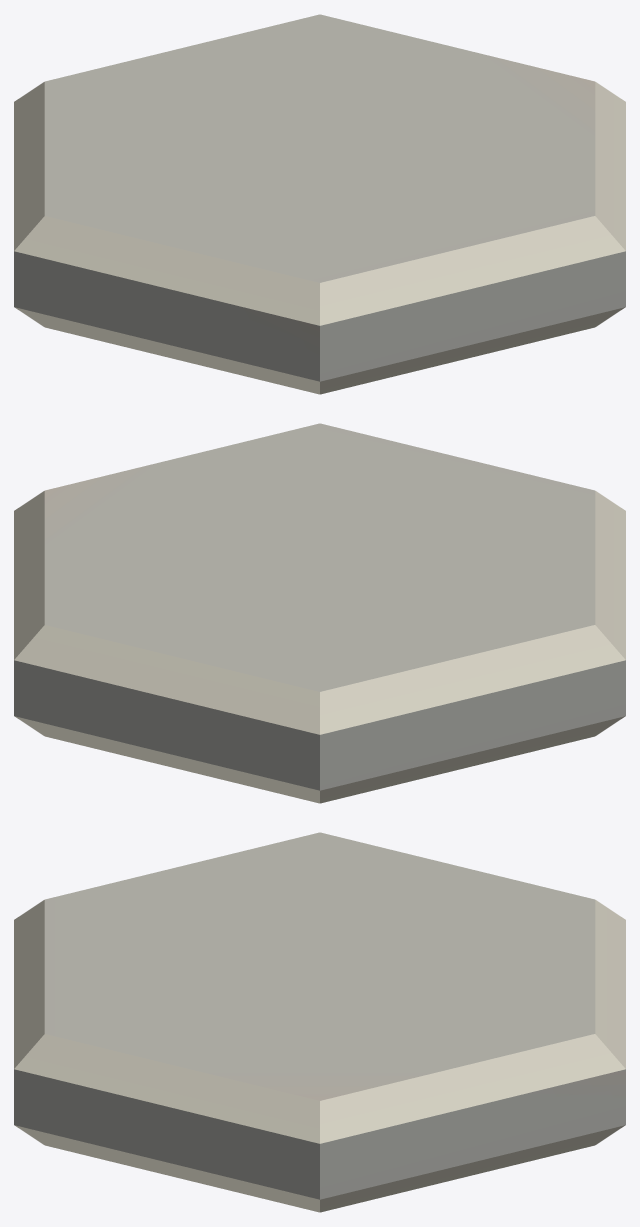
Rendered from CoinSliver_Mesh.fbx.
The picture shows the model from 3 angles, top to bottom: view 1: azimuth 30°, elevation 25°; view 2: azimuth 150°, elevation 25°; view 3: azimuth 270°, elevation 25°; orthographic projection.
Parts seen in each view (by area): view 1: CoinSliver_Mesh; view 2: CoinSliver_Mesh; view 3: CoinSliver_Mesh.
Part boxes in pixels (box(x1,y1,x2,y2)): CoinSliver_Mesh: box(14, 14, 625, 394); CoinSliver_Mesh: box(14, 423, 625, 803); CoinSliver_Mesh: box(14, 832, 625, 1212).
Bounding box in the file's own units: 1.62 × 0.2818 × 1.4.
1 material, 1 textured.
